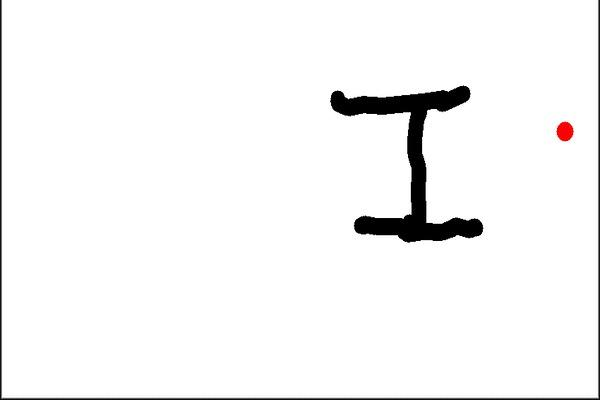i: (318, 83, 494, 250)
